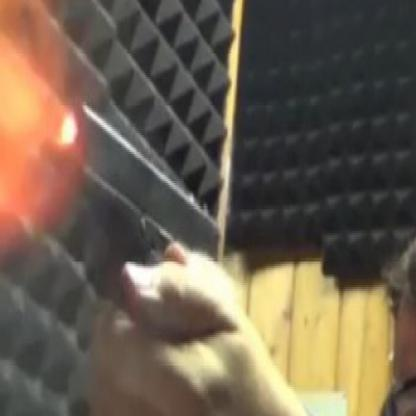gun: (32, 83, 226, 329)
